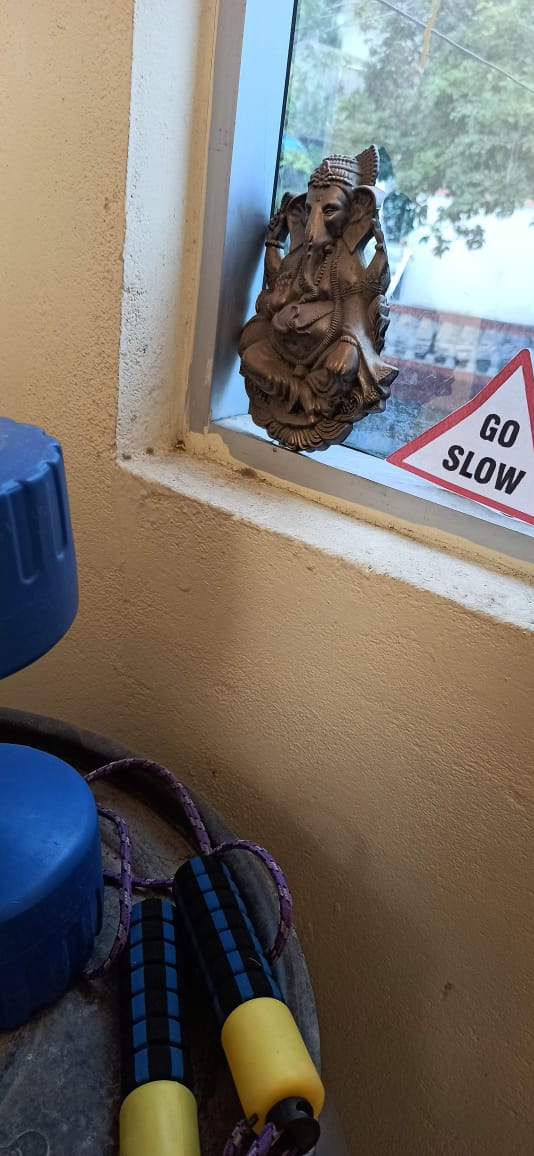GO SLOW: (392, 337, 534, 551)
